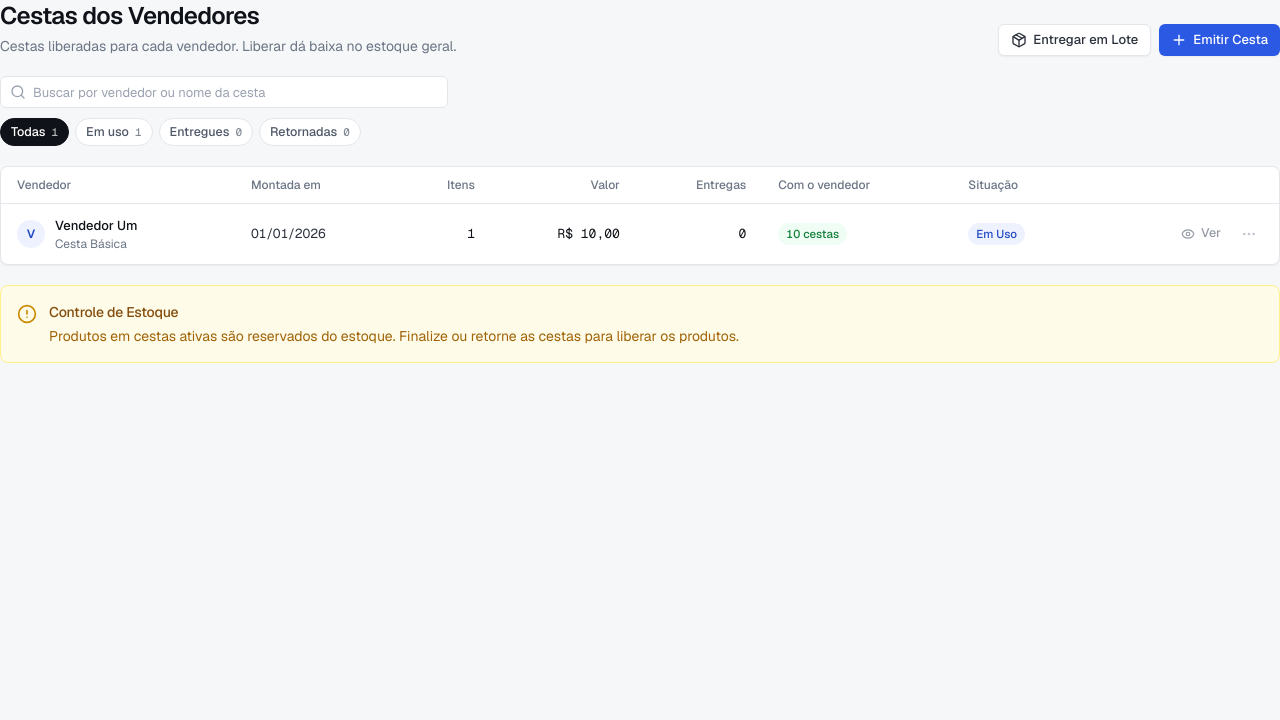
Scenario: CestasVendedor — entrega em lote sem autoridade na UI › 2/3/4. lote envia só negócio — sem administrador_id, usuario_id, usuario_nome
The width and height of the screenshot is (1280, 720).
Later steps or results of the test are not shown.
Click the button "Entregar em Lote" at (1075, 40), box [998, 24, 1151, 56]
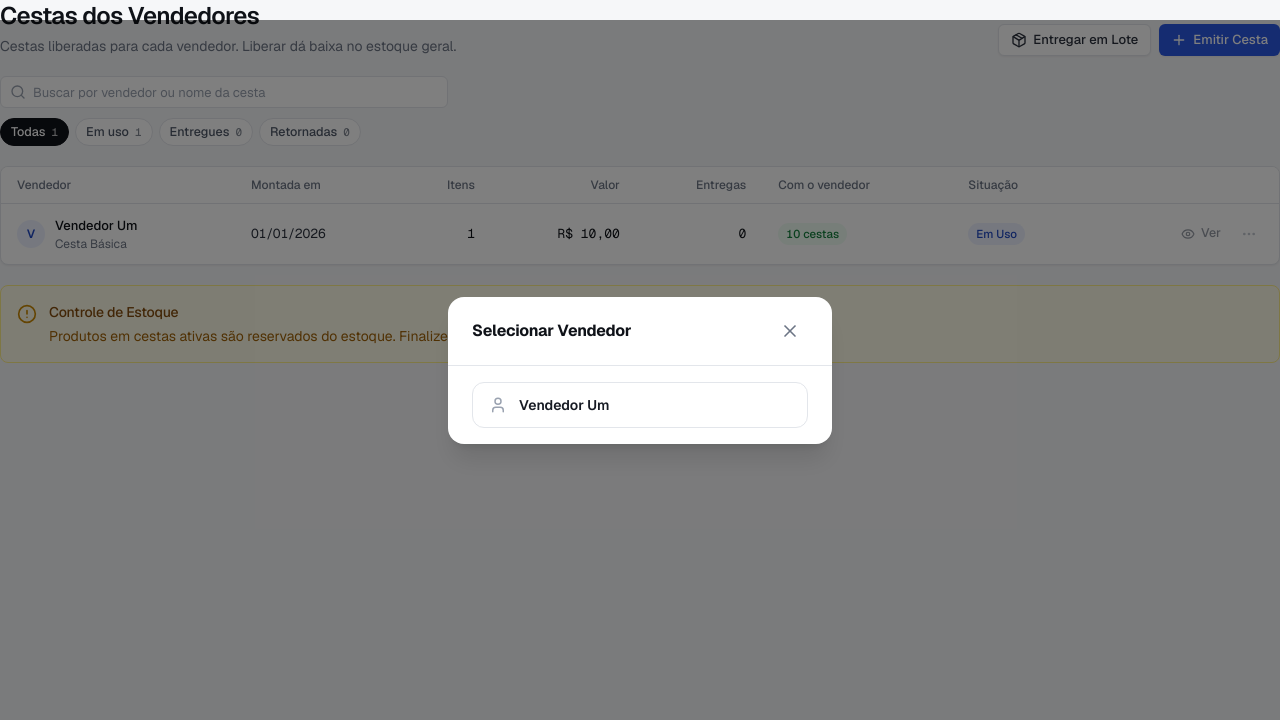
Click the button "Vendedor Um" at (564, 404), box [472, 382, 808, 428]
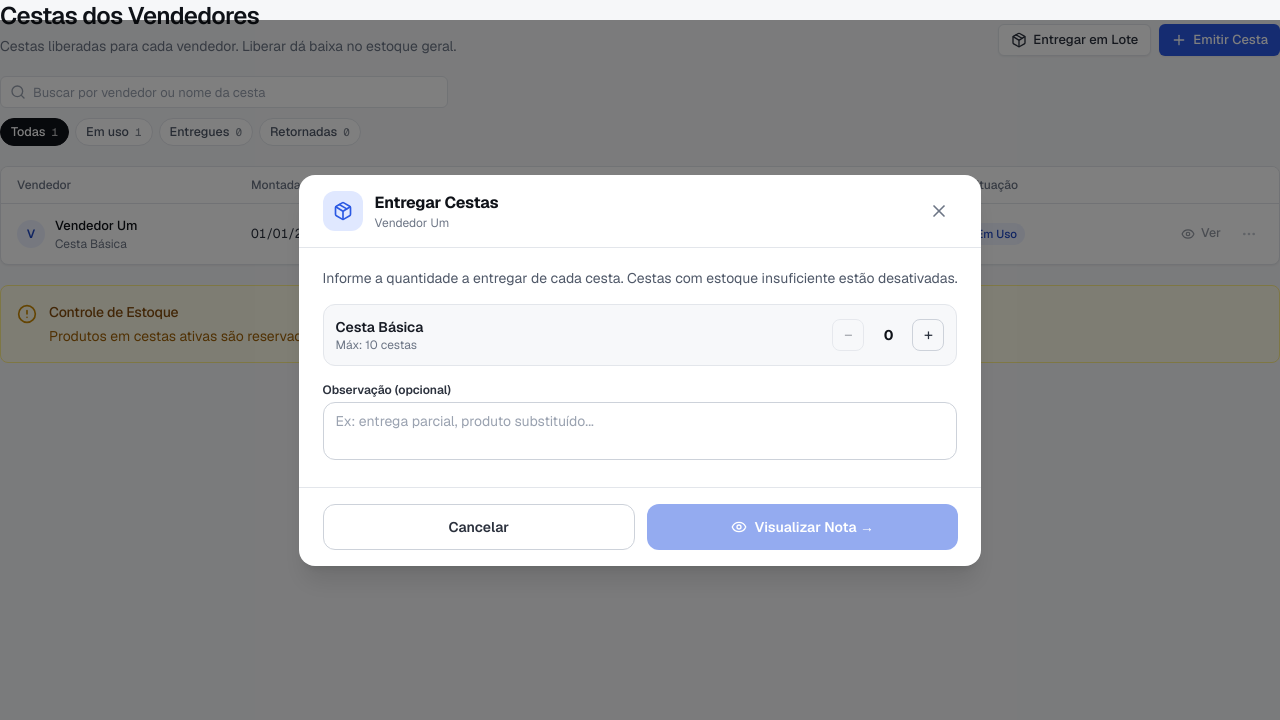
Expected: the heading "Entregar Cestas" is shown, [374, 190, 498, 214]
